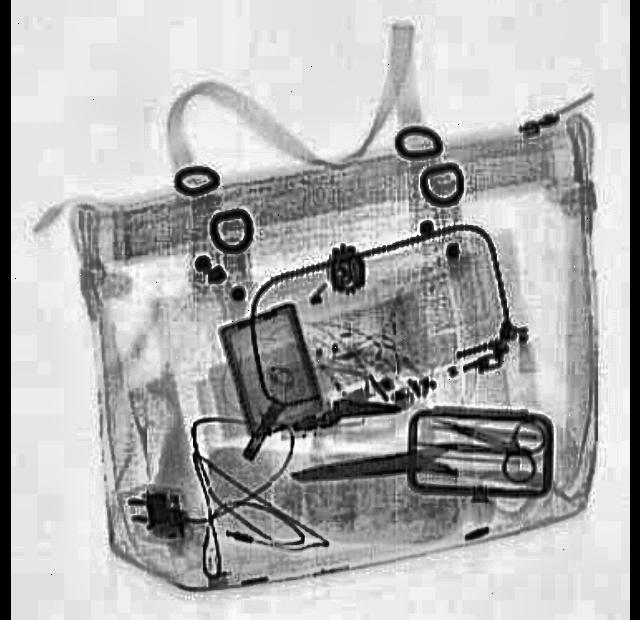Scissors: (424, 388, 546, 488)
